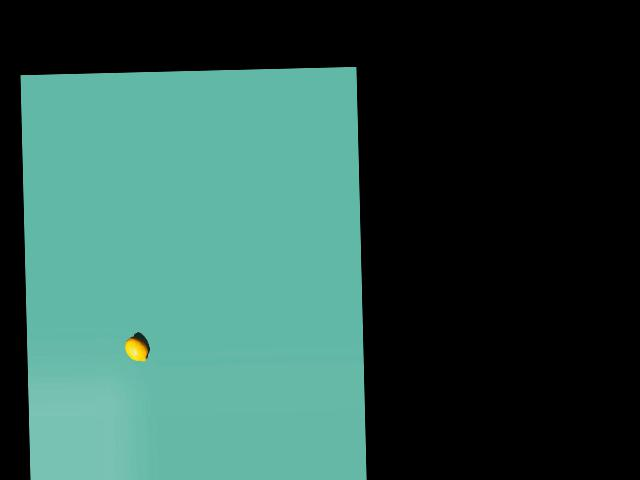lemon: (125, 329, 151, 363)
